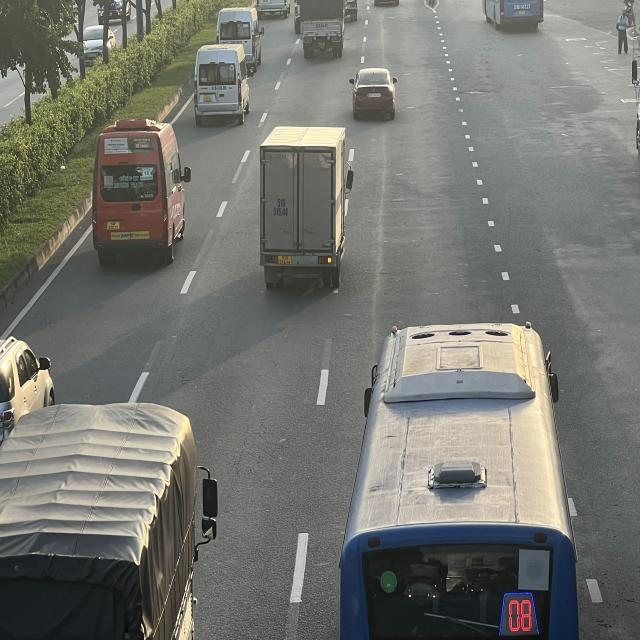car: (0, 334, 54, 446), (348, 68, 397, 120)
coach: (340, 318, 574, 636)
truck: (2, 402, 219, 640), (257, 125, 353, 290), (300, 0, 344, 57)
van: (94, 122, 191, 266), (196, 42, 251, 123), (214, 4, 261, 68)
